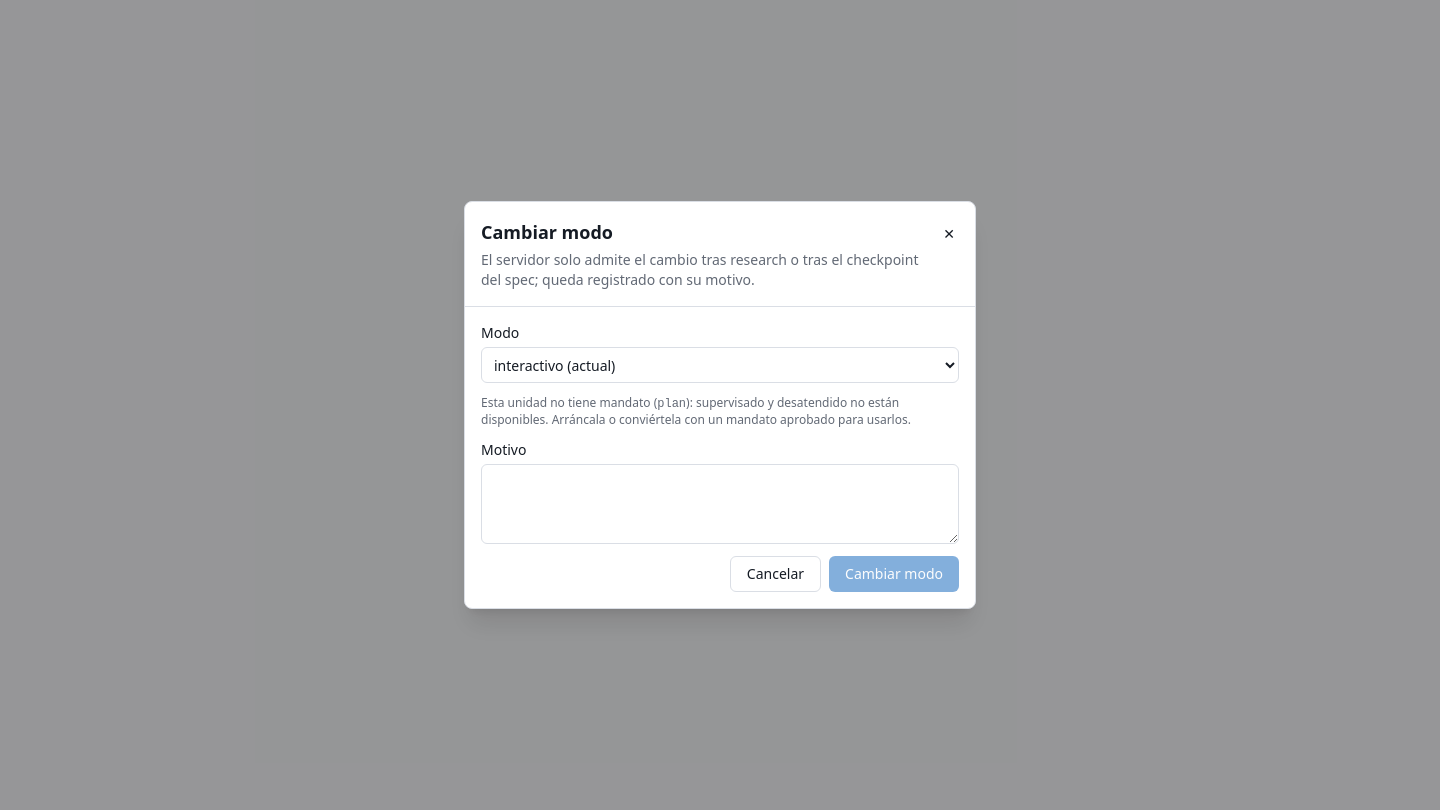
it: diálogo de cambio de modo › un 409 avisa que el estado cambió y no cierra el diálogo
Select "semi-autonomo" in the dropdown labelled "Modo". click: [720, 365]
box: [481, 347, 959, 383]
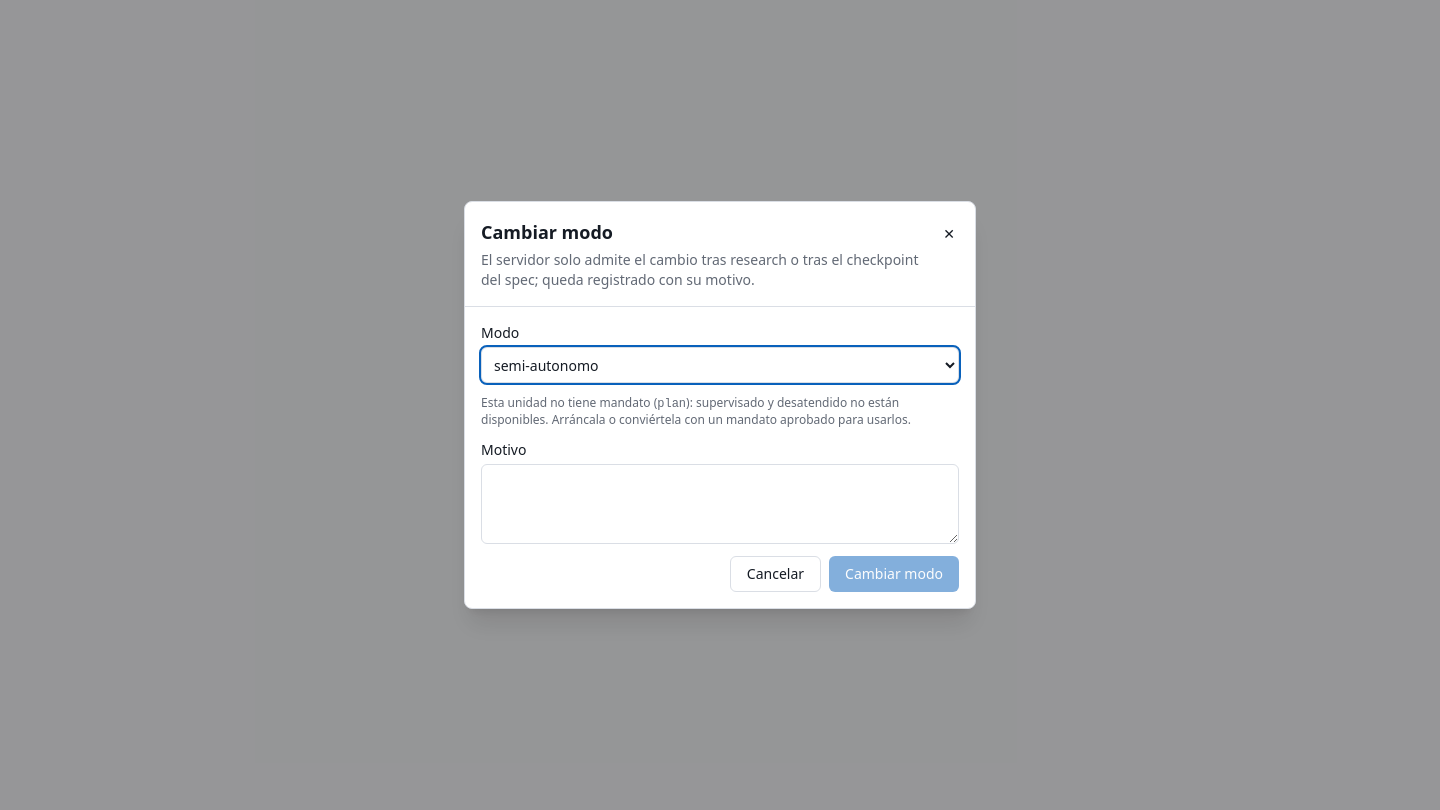
Type "otro intento" into the text box labelled "Motivo". click: [720, 504]
box: [481, 464, 959, 544]
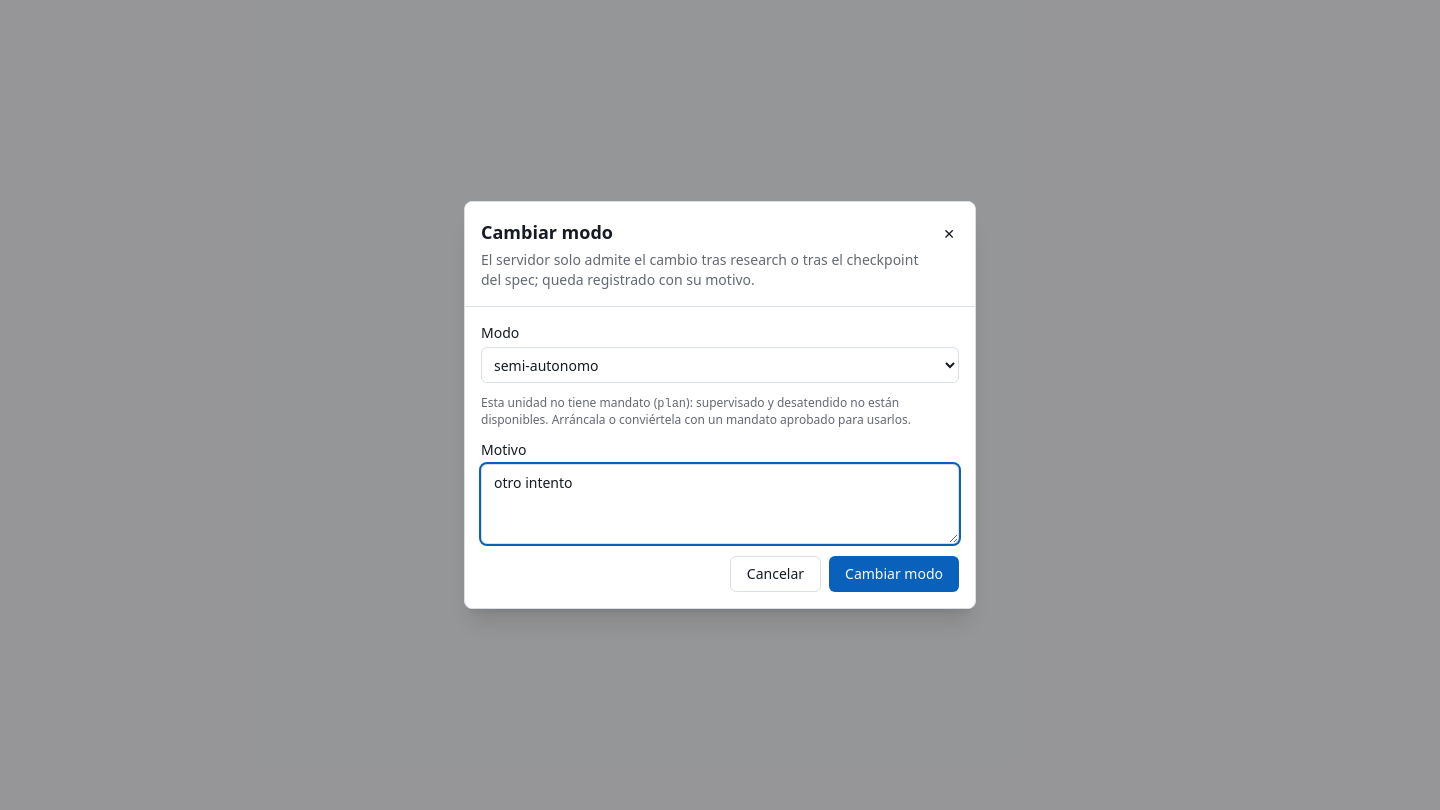
Click the button "Cambiar modo". click: [894, 574]
box: [829, 556, 959, 592]
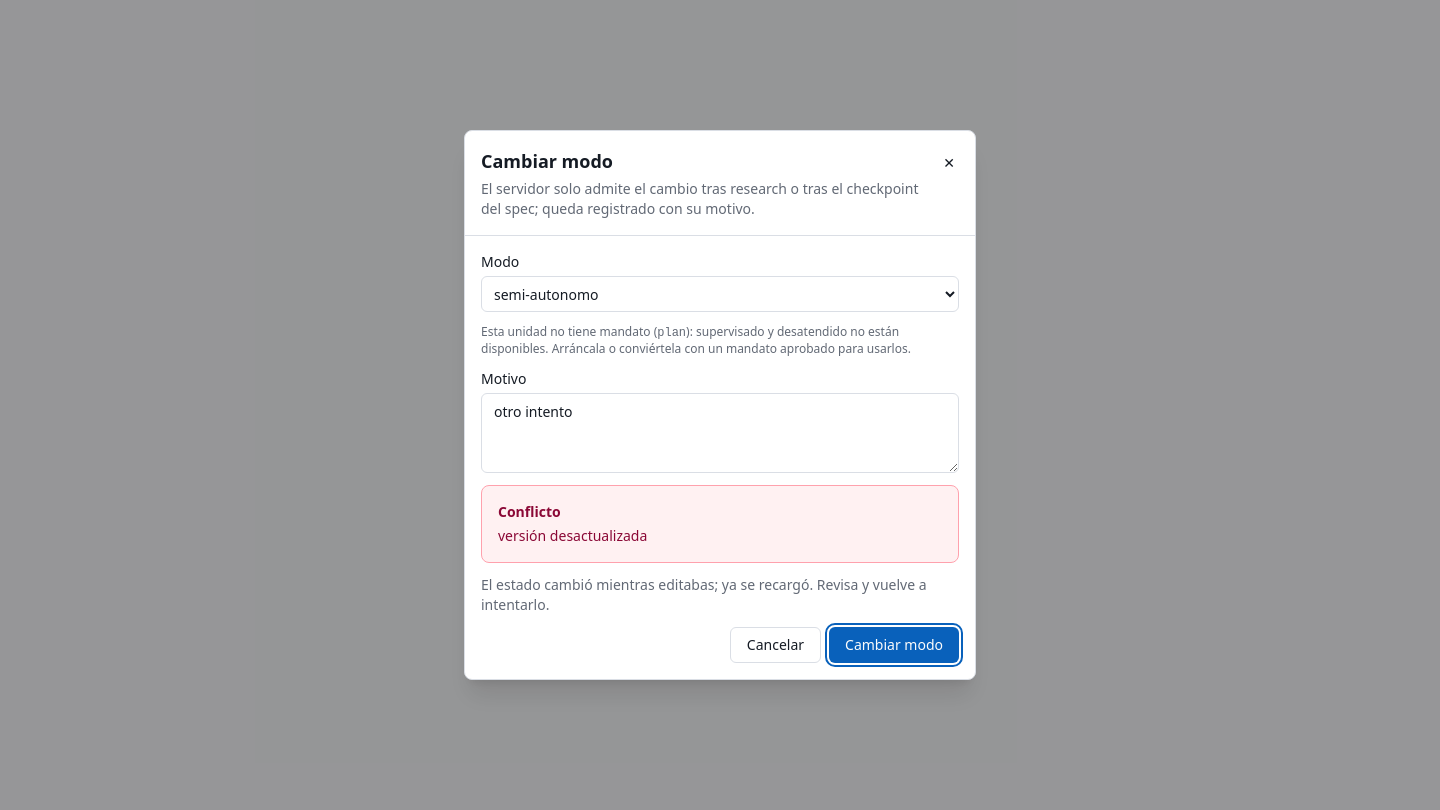
Check: the button "Cambiar modo" is enabled, box [829, 627, 959, 663]
Check: the text "El estado cambió mientras editabas; ya se recargó" is shown, box [481, 575, 927, 614]
Check: the text "versión desactualizada" is shown, box [498, 526, 647, 545]
